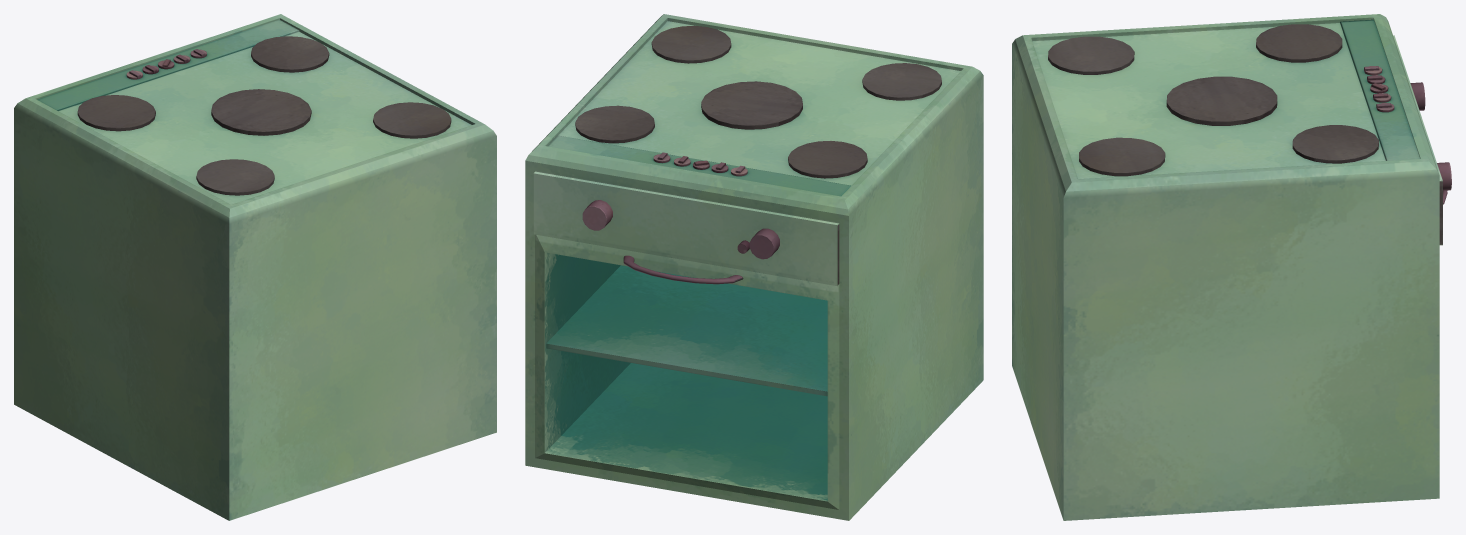
Rendered from 15_Lv1 Oven (1).fbx.
The picture shows the model from 3 angles, left to right: view 1: azimuth 30°, elevation 25°; view 2: azimuth 150°, elevation 25°; view 3: azimuth 270°, elevation 25°; orthographic projection. The views are drawn at different scales.
Parts seen in each view (by area): view 1: Oven; view 2: Oven; view 3: Oven.
Part boxes in pixels (bbox=[...]): Oven: bbox=[14, 14, 496, 520]; Oven: bbox=[525, 14, 983, 520]; Oven: bbox=[1012, 14, 1451, 520].
Bounding box in the file's own units: 2317 × 2056 × 2433.
